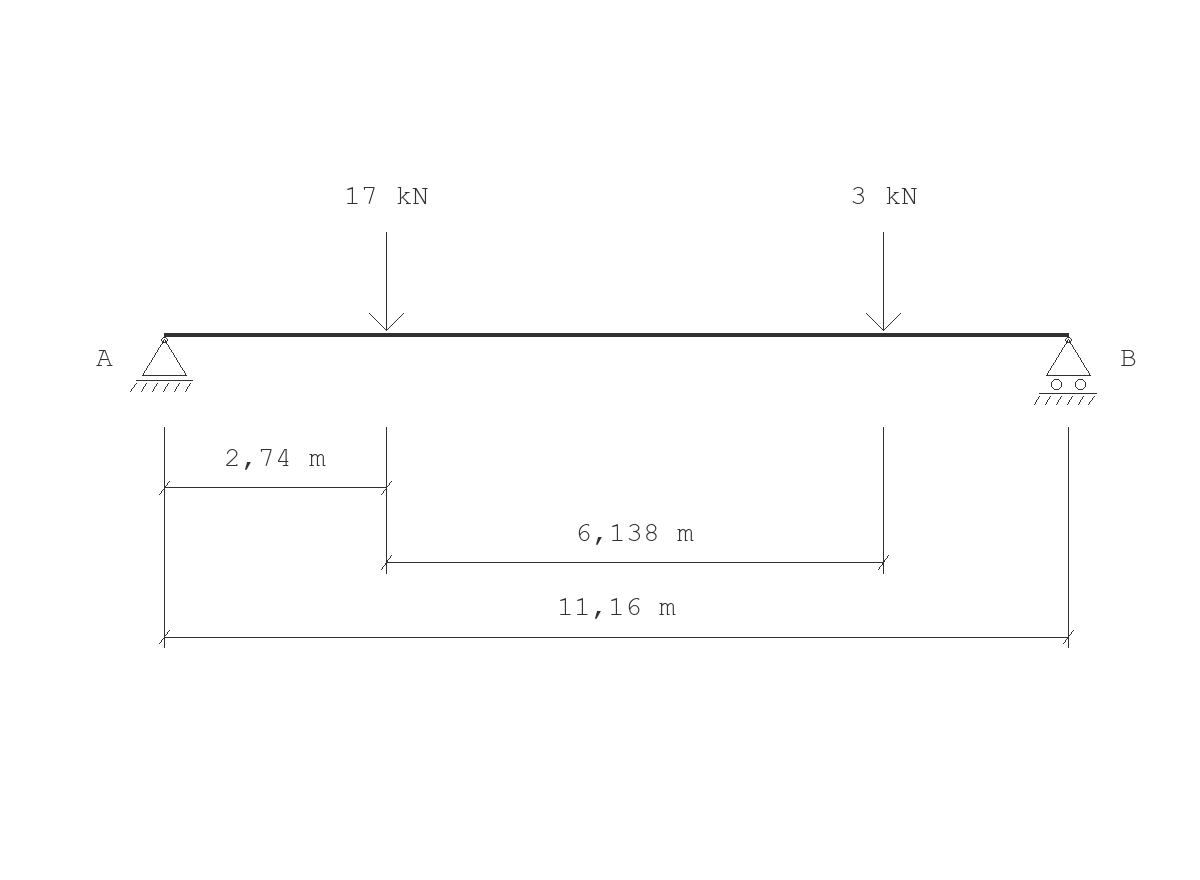pin_support: (130, 337, 193, 392)
point_load: (369, 232, 404, 331), (866, 232, 901, 331)
roller_support: (1034, 337, 1097, 405)
